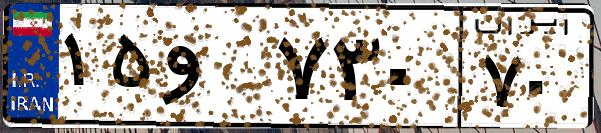0: (385, 28, 445, 110), (525, 38, 570, 115)
1: (57, 26, 110, 100)
3: (330, 28, 385, 110)
5: (110, 28, 158, 98)
7: (270, 28, 330, 110), (475, 38, 525, 113)
و: (158, 20, 270, 120)
